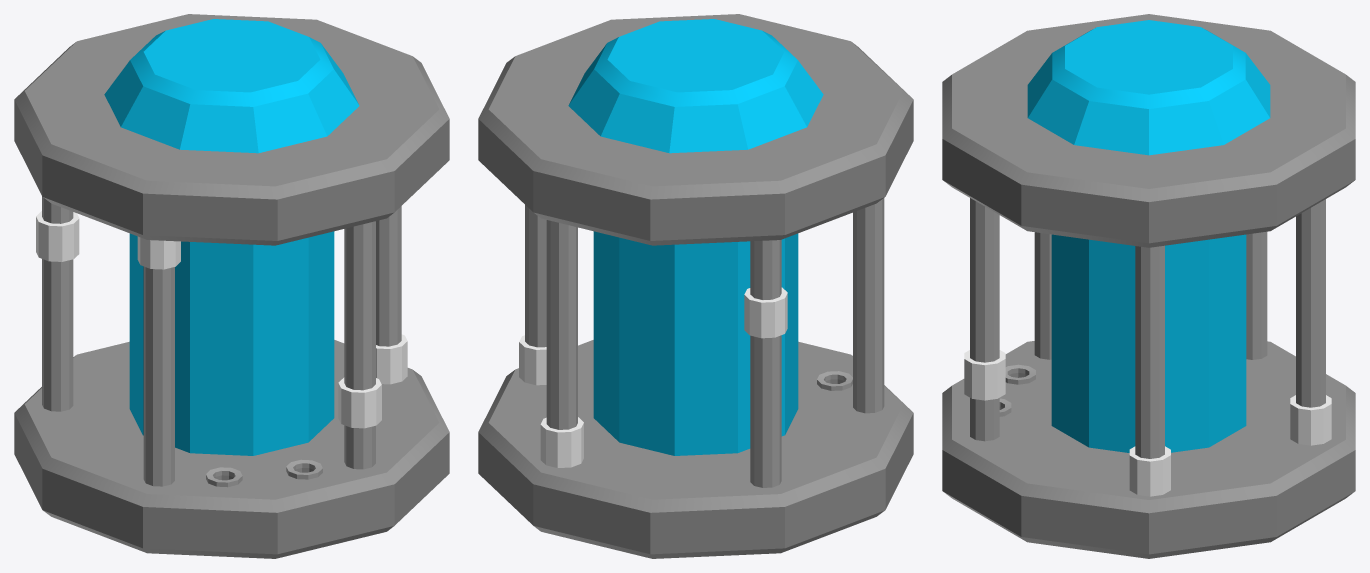
The model's file is Spike 1.fbx.
3 renders of one model, left to right at view 1: azimuth 30°, elevation 25°; view 2: azimuth 150°, elevation 25°; view 3: azimuth 270°, elevation 25°, orthographic.
Visible parts, largest first — view 1: Spike; view 2: Spike; view 3: Spike.
Part boxes in pixels (x1,y1,x2,y2): Spike: (14, 14, 449, 558); Spike: (478, 14, 913, 558); Spike: (942, 14, 1355, 558).
Size of the model in its own units: 69.68 by 73.25 by 66.27.
